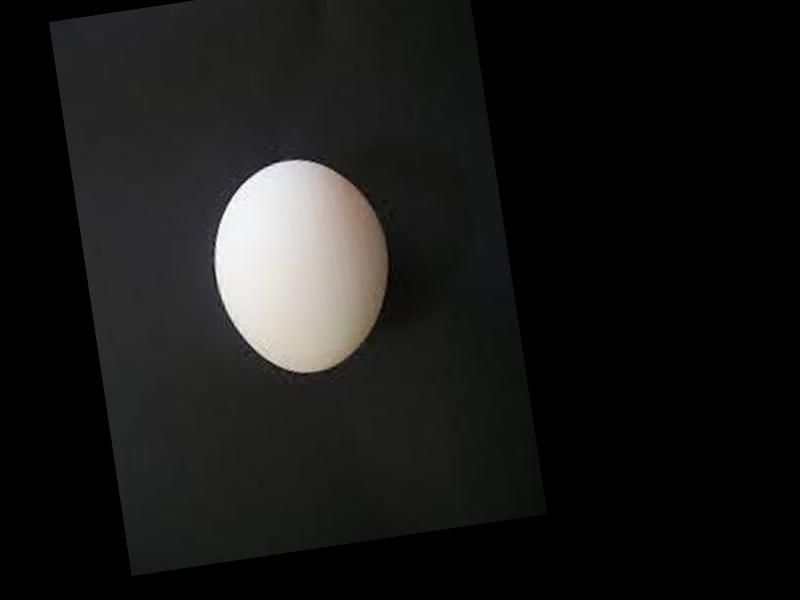Eggs: (201, 153, 402, 386)
